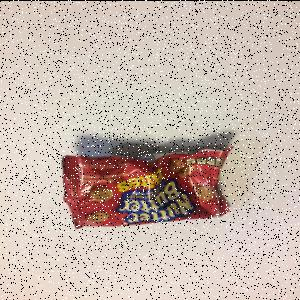Trash: (60, 147, 234, 231)
